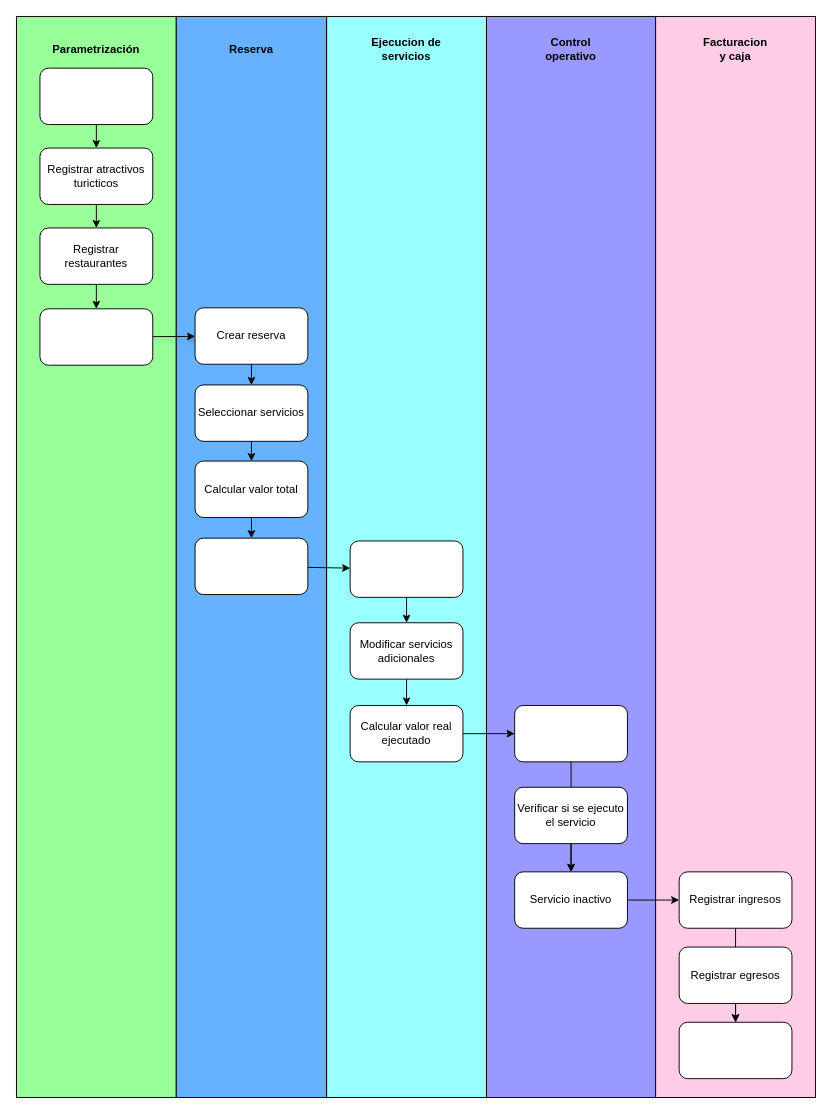
Some shapes in this 832 by 1114 pixel diagram are drawn without their labels. Here are the shapes that lost their labels. From the top down, the centre of each, then its label:
At [96,96]: "Registrar cliente".
At [96,336]: "Definir tarifas de transporte".
At [251,566]: "Confirmar reserva".
At [406,568]: "Marcar servicio como prestado o pendiente".
At [570,733]: "Registrar costos operacionales".
At [735,1050]: "Registrar flujo de caja".
